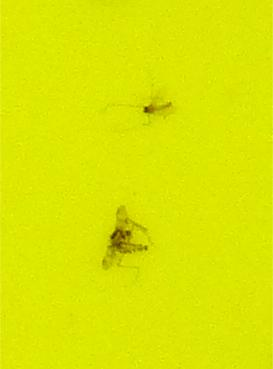Nematocera: (100, 206, 149, 269), (140, 100, 173, 117)
